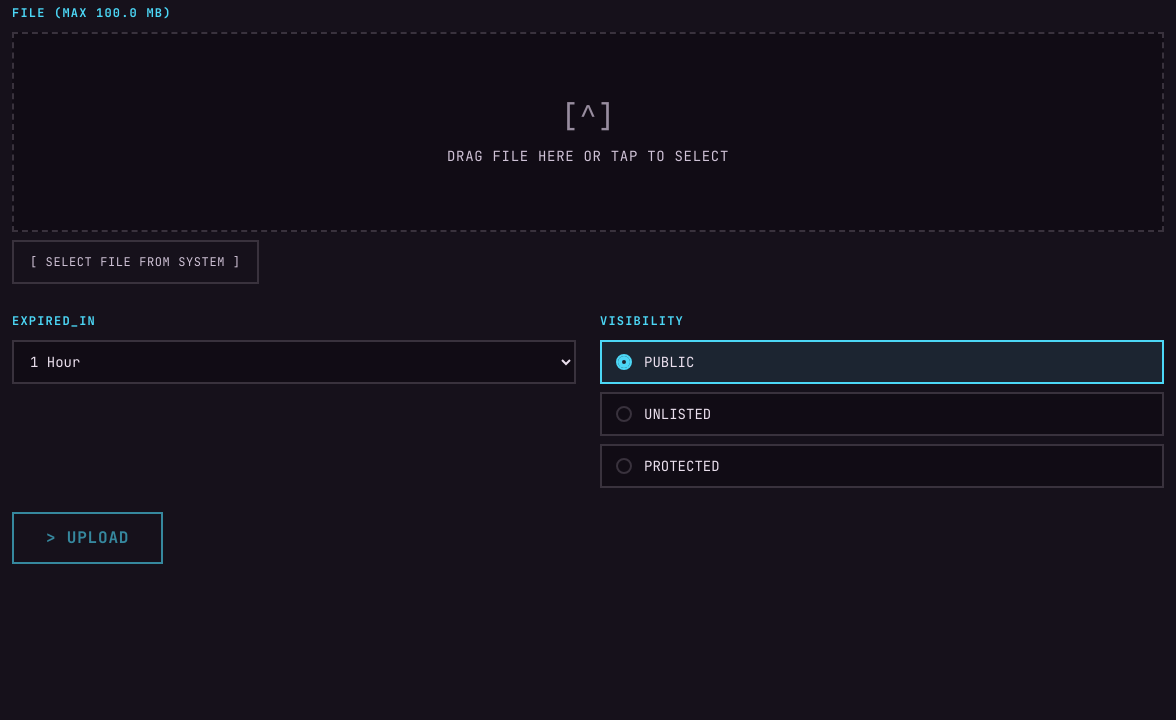
Test case: FileUploader › reveals the password field only for password_protected (Req 5.5)
Expected: the field labelled "PASSWORD" is not shown
Click the radio button labelled "PROTECTED": (624, 466) [616,458,632,474]
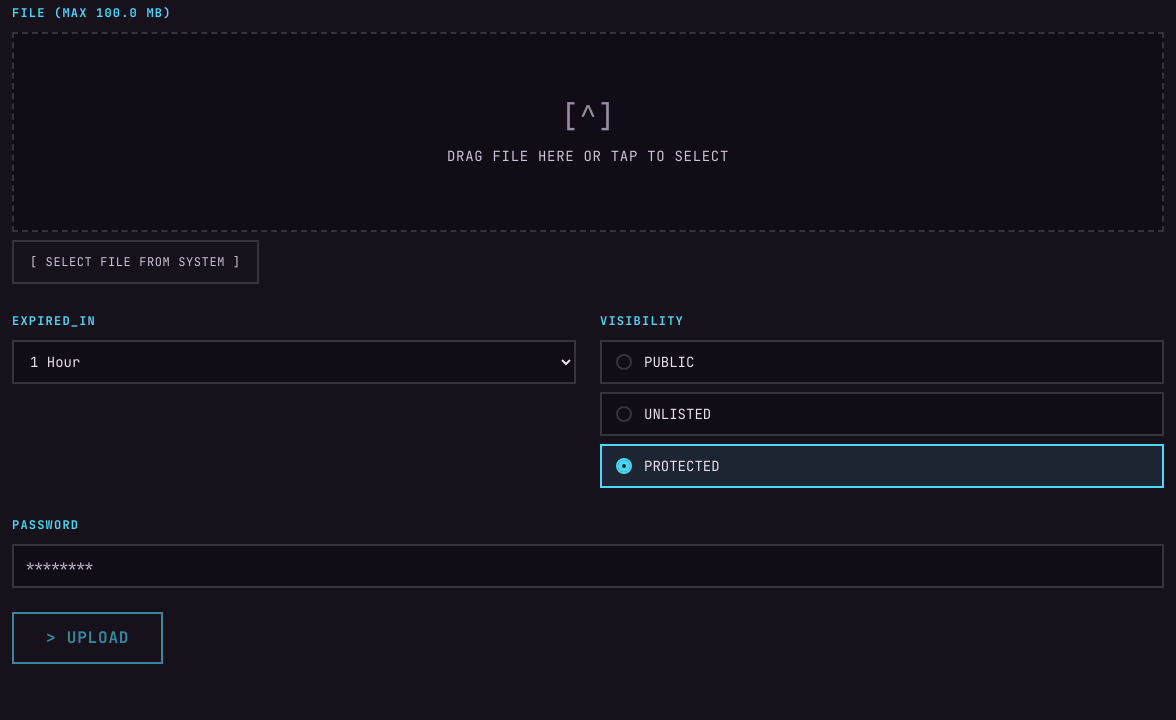
Expected: the password field labelled "PASSWORD" is shown, [12,544,1164,588]
